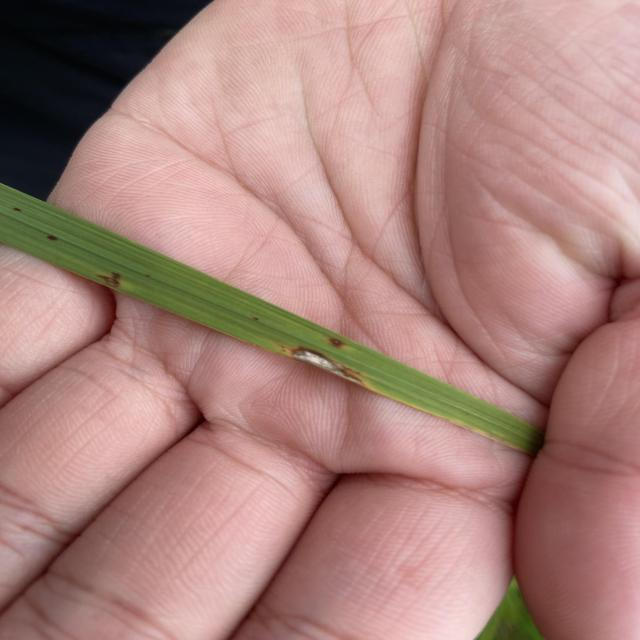Dao on: (279, 344, 368, 389), (96, 272, 121, 288), (328, 337, 346, 350)
